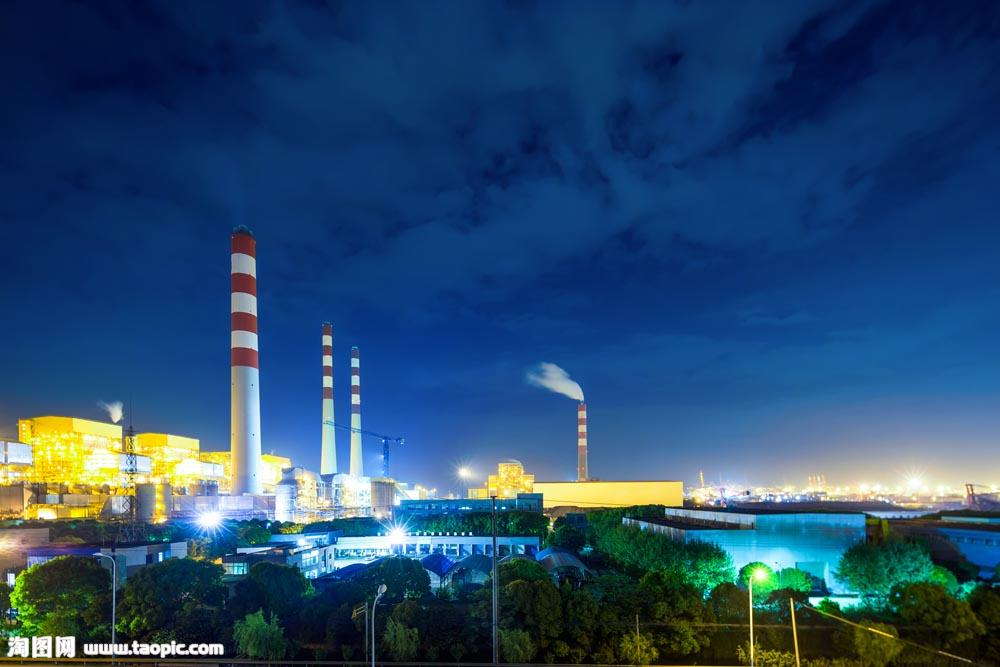dust: (490, 347, 613, 414)
